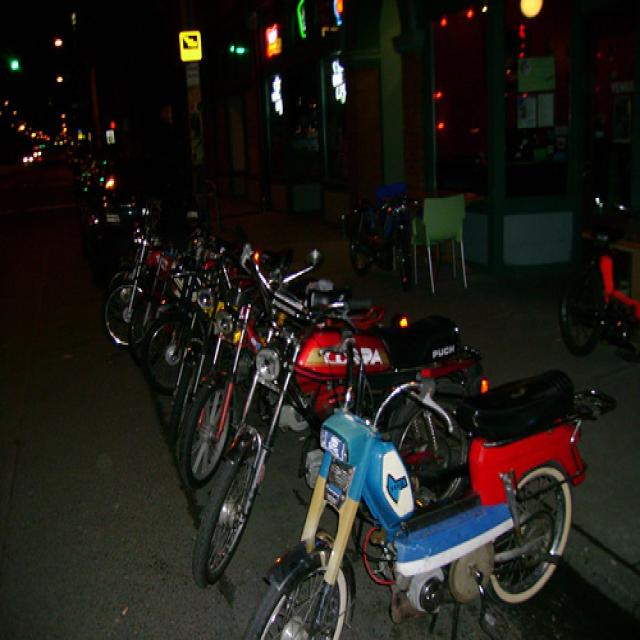Motorbike: (164, 270, 467, 534), (298, 404, 585, 636), (116, 200, 246, 358)
